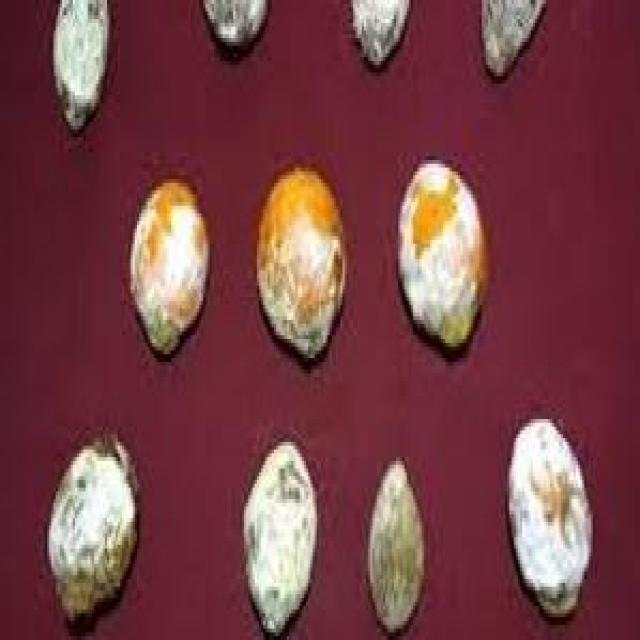damaged: (45, 430, 143, 636), (396, 160, 492, 366), (255, 168, 351, 373), (505, 419, 593, 625), (240, 438, 319, 636), (128, 179, 212, 362), (366, 461, 426, 636), (479, 0, 552, 84), (195, 0, 274, 69)
